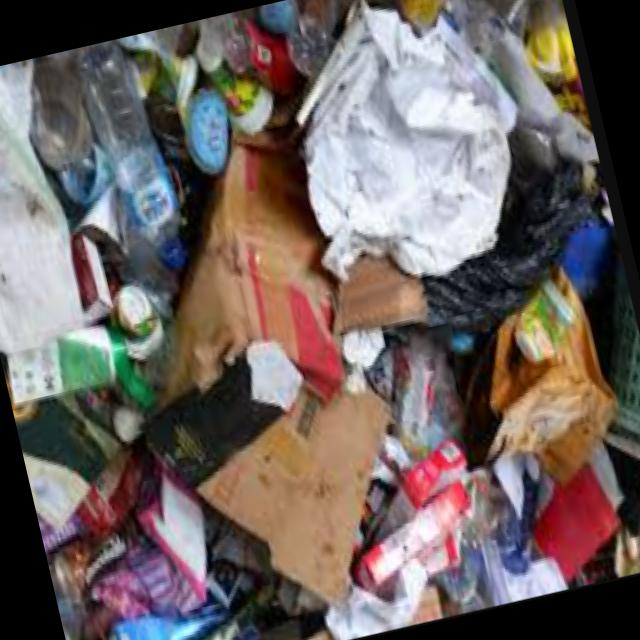KemasanPlastik: (270, 0, 550, 307), (384, 144, 618, 345), (0, 59, 95, 355)
